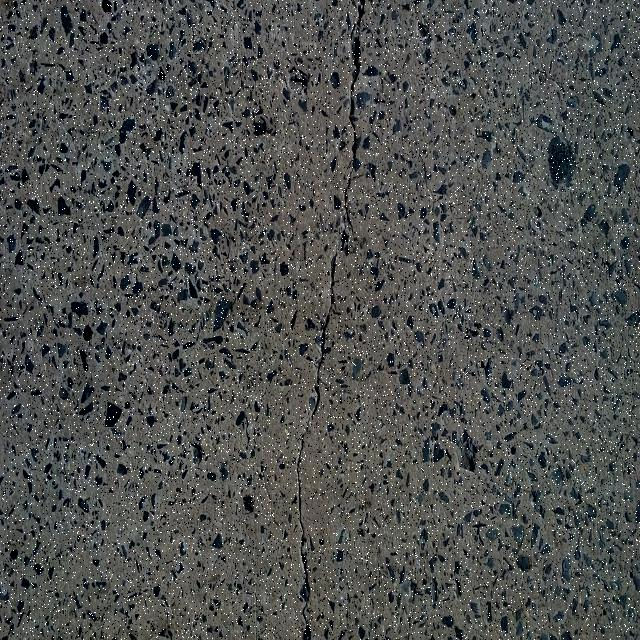Crack: (297, 253, 338, 640), (343, 0, 365, 237)
